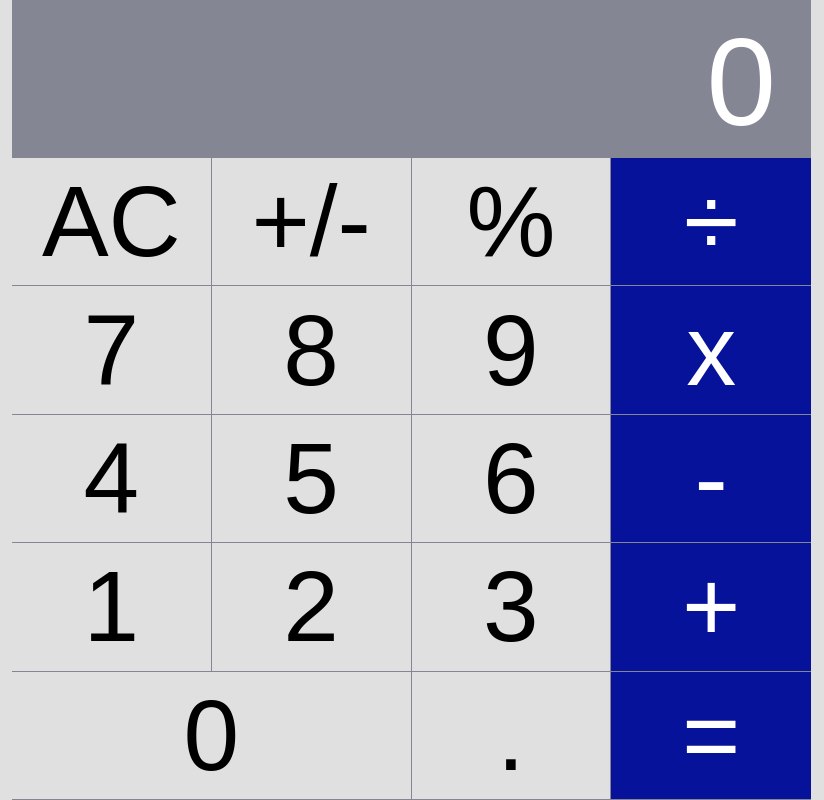
Scenario: Verify Calculator Subtract Functionality › Verify 9 - 1 = 8
Click the button with test id "Calc-Button-9".
click(512, 350)  # box [412,286,611,413]
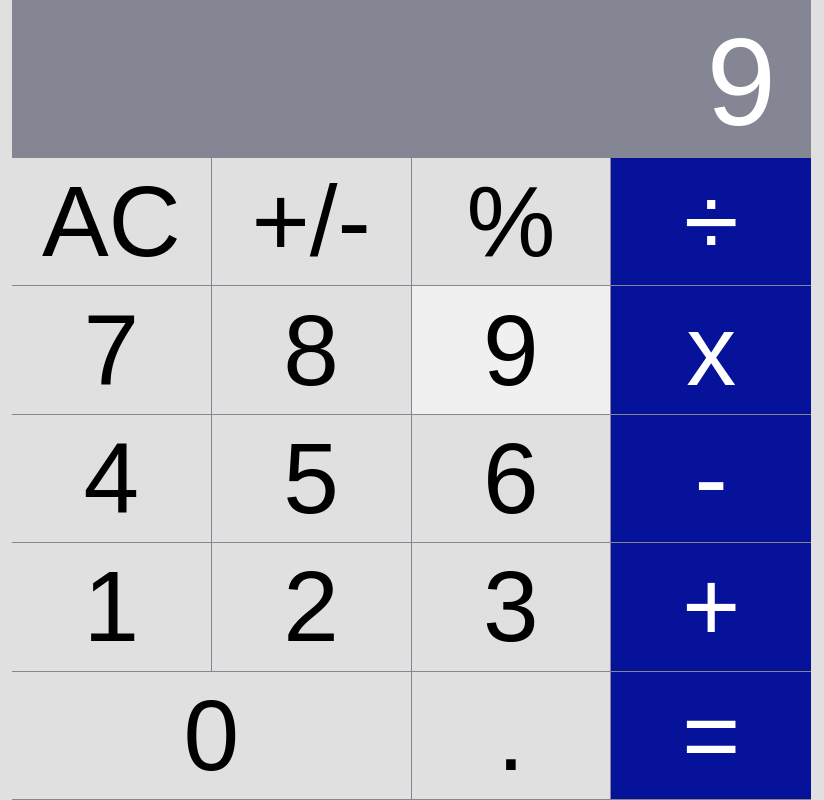
Expected: the text with test id "Calc-Display" reads "9", [706,12,776,151]
Click the button "-".
click(711, 479)  # box [611,415,811,542]
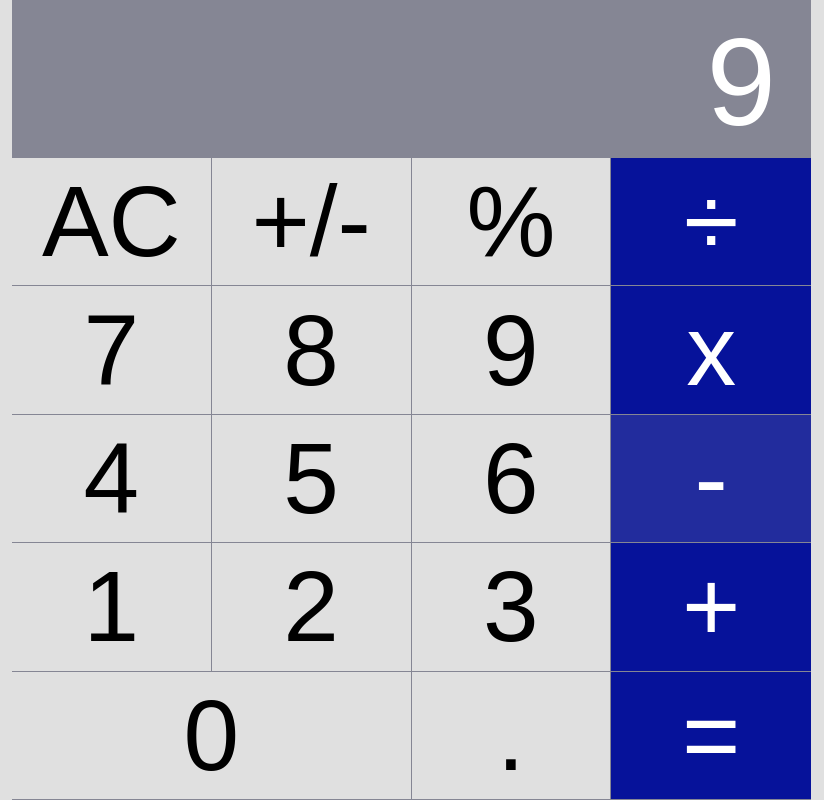
Expected: the text with test id "Calc-Display" reads "9", [706,12,776,151]
Click the button with test id "Calc-Button-1".
click(112, 607)  # box [12,543,211,670]
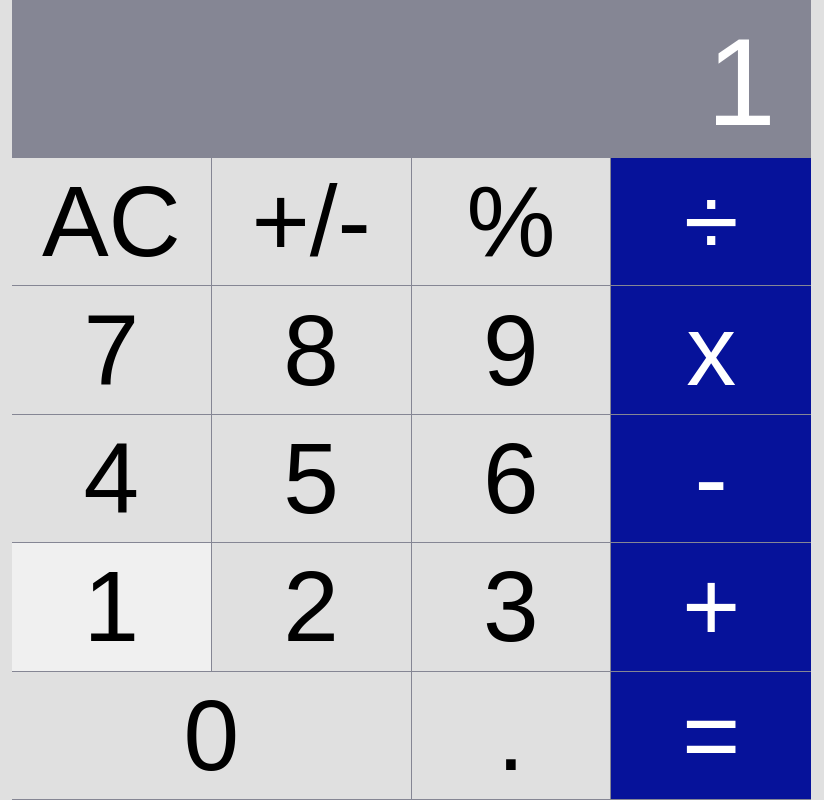
Expected: the text with test id "Calc-Display" reads "1", [706,12,776,151]
Click the button "=".
click(711, 736)  # box [611,672,811,799]
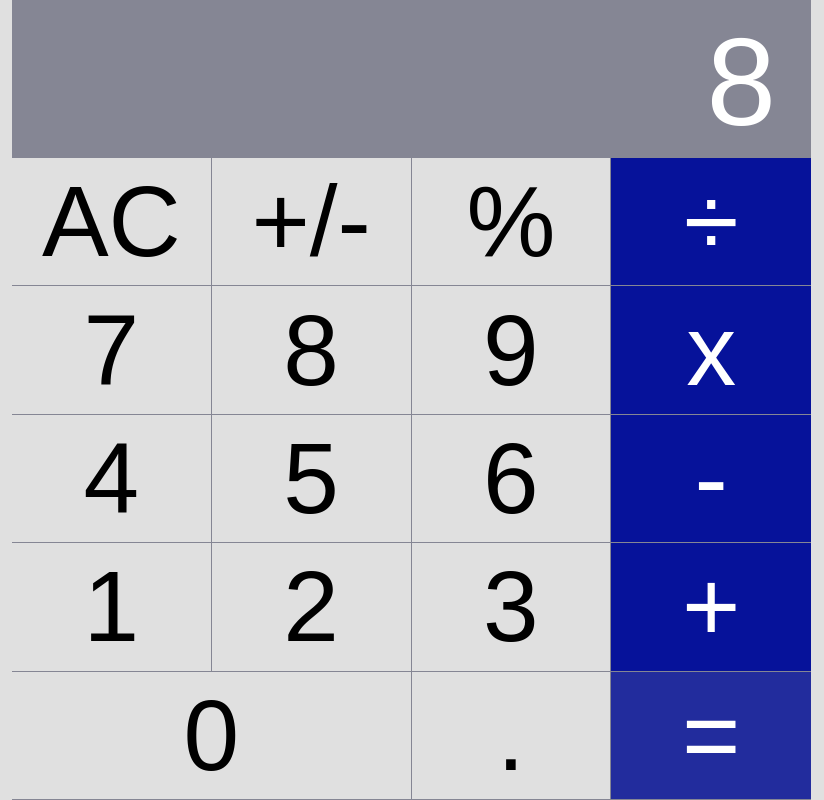
Expected: the text with test id "Calc-Display" reads "8", [706,12,776,151]
